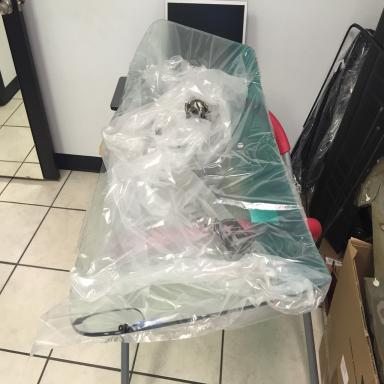plasticbag: (24, 16, 333, 361)
